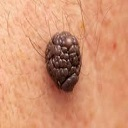Melanoma: (44, 31, 84, 94)
